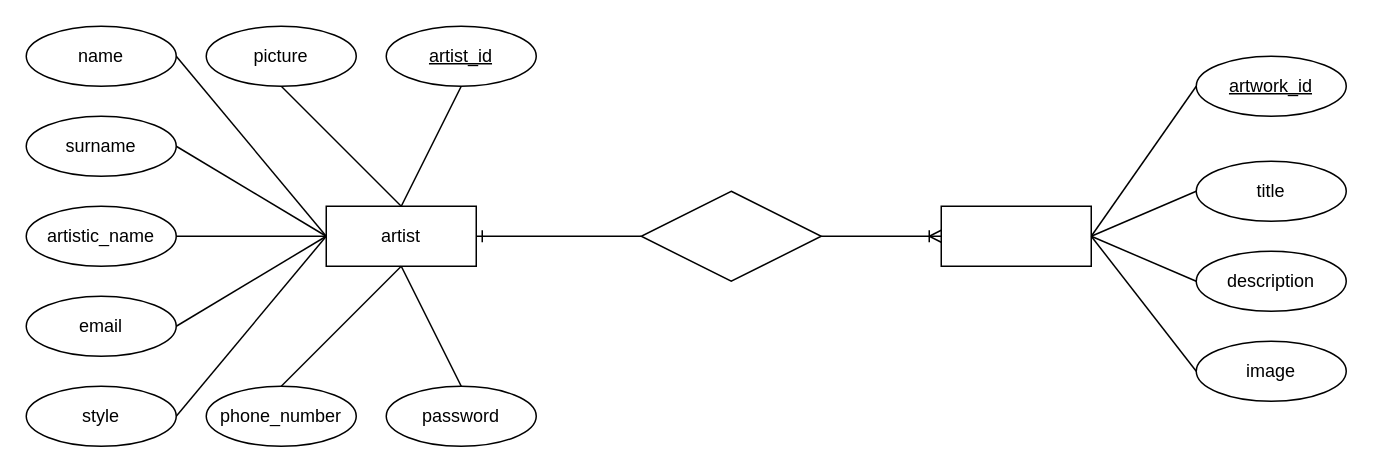
Some shapes in this 1373 by 473 pixel diagram are drawn without their labels. Here are the shapes that lost their labels. From the top down, the centre of each, then its label:
At (730,235): "artist_artowork".
At (1015,235): "artwork".
